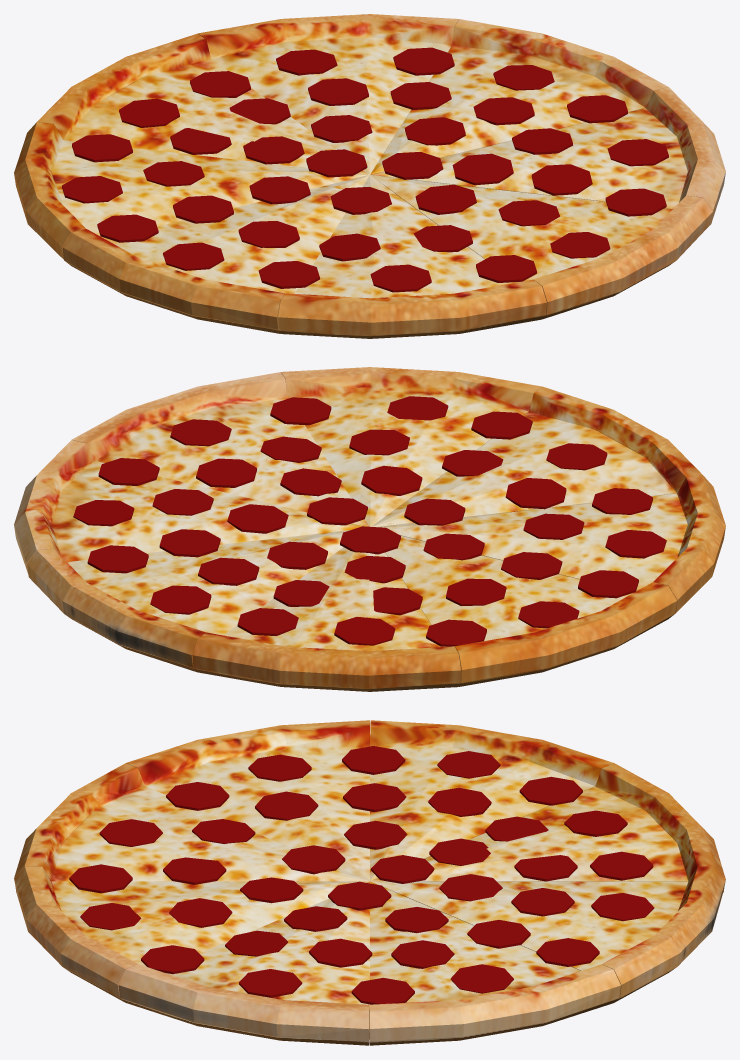
The model's file is pizza.glb.
3 renders of one model, top to bottom at view 1: azimuth 30°, elevation 25°; view 2: azimuth 150°, elevation 25°; view 3: azimuth 270°, elevation 25°, orthographic.
Parts seen in each view (by area): view 1: pizza_pepperoni; view 2: pizza_pepperoni; view 3: pizza_pepperoni.
Boxes of the visible parts, box(x1,y1,x2,y2) form: pizza_pepperoni: box(14, 14, 725, 338); pizza_pepperoni: box(14, 367, 725, 691); pizza_pepperoni: box(14, 720, 725, 1045).
Size of the model in its own units: 5.33 by 0.3048 by 5.33.
3 materials, 2 textured.
